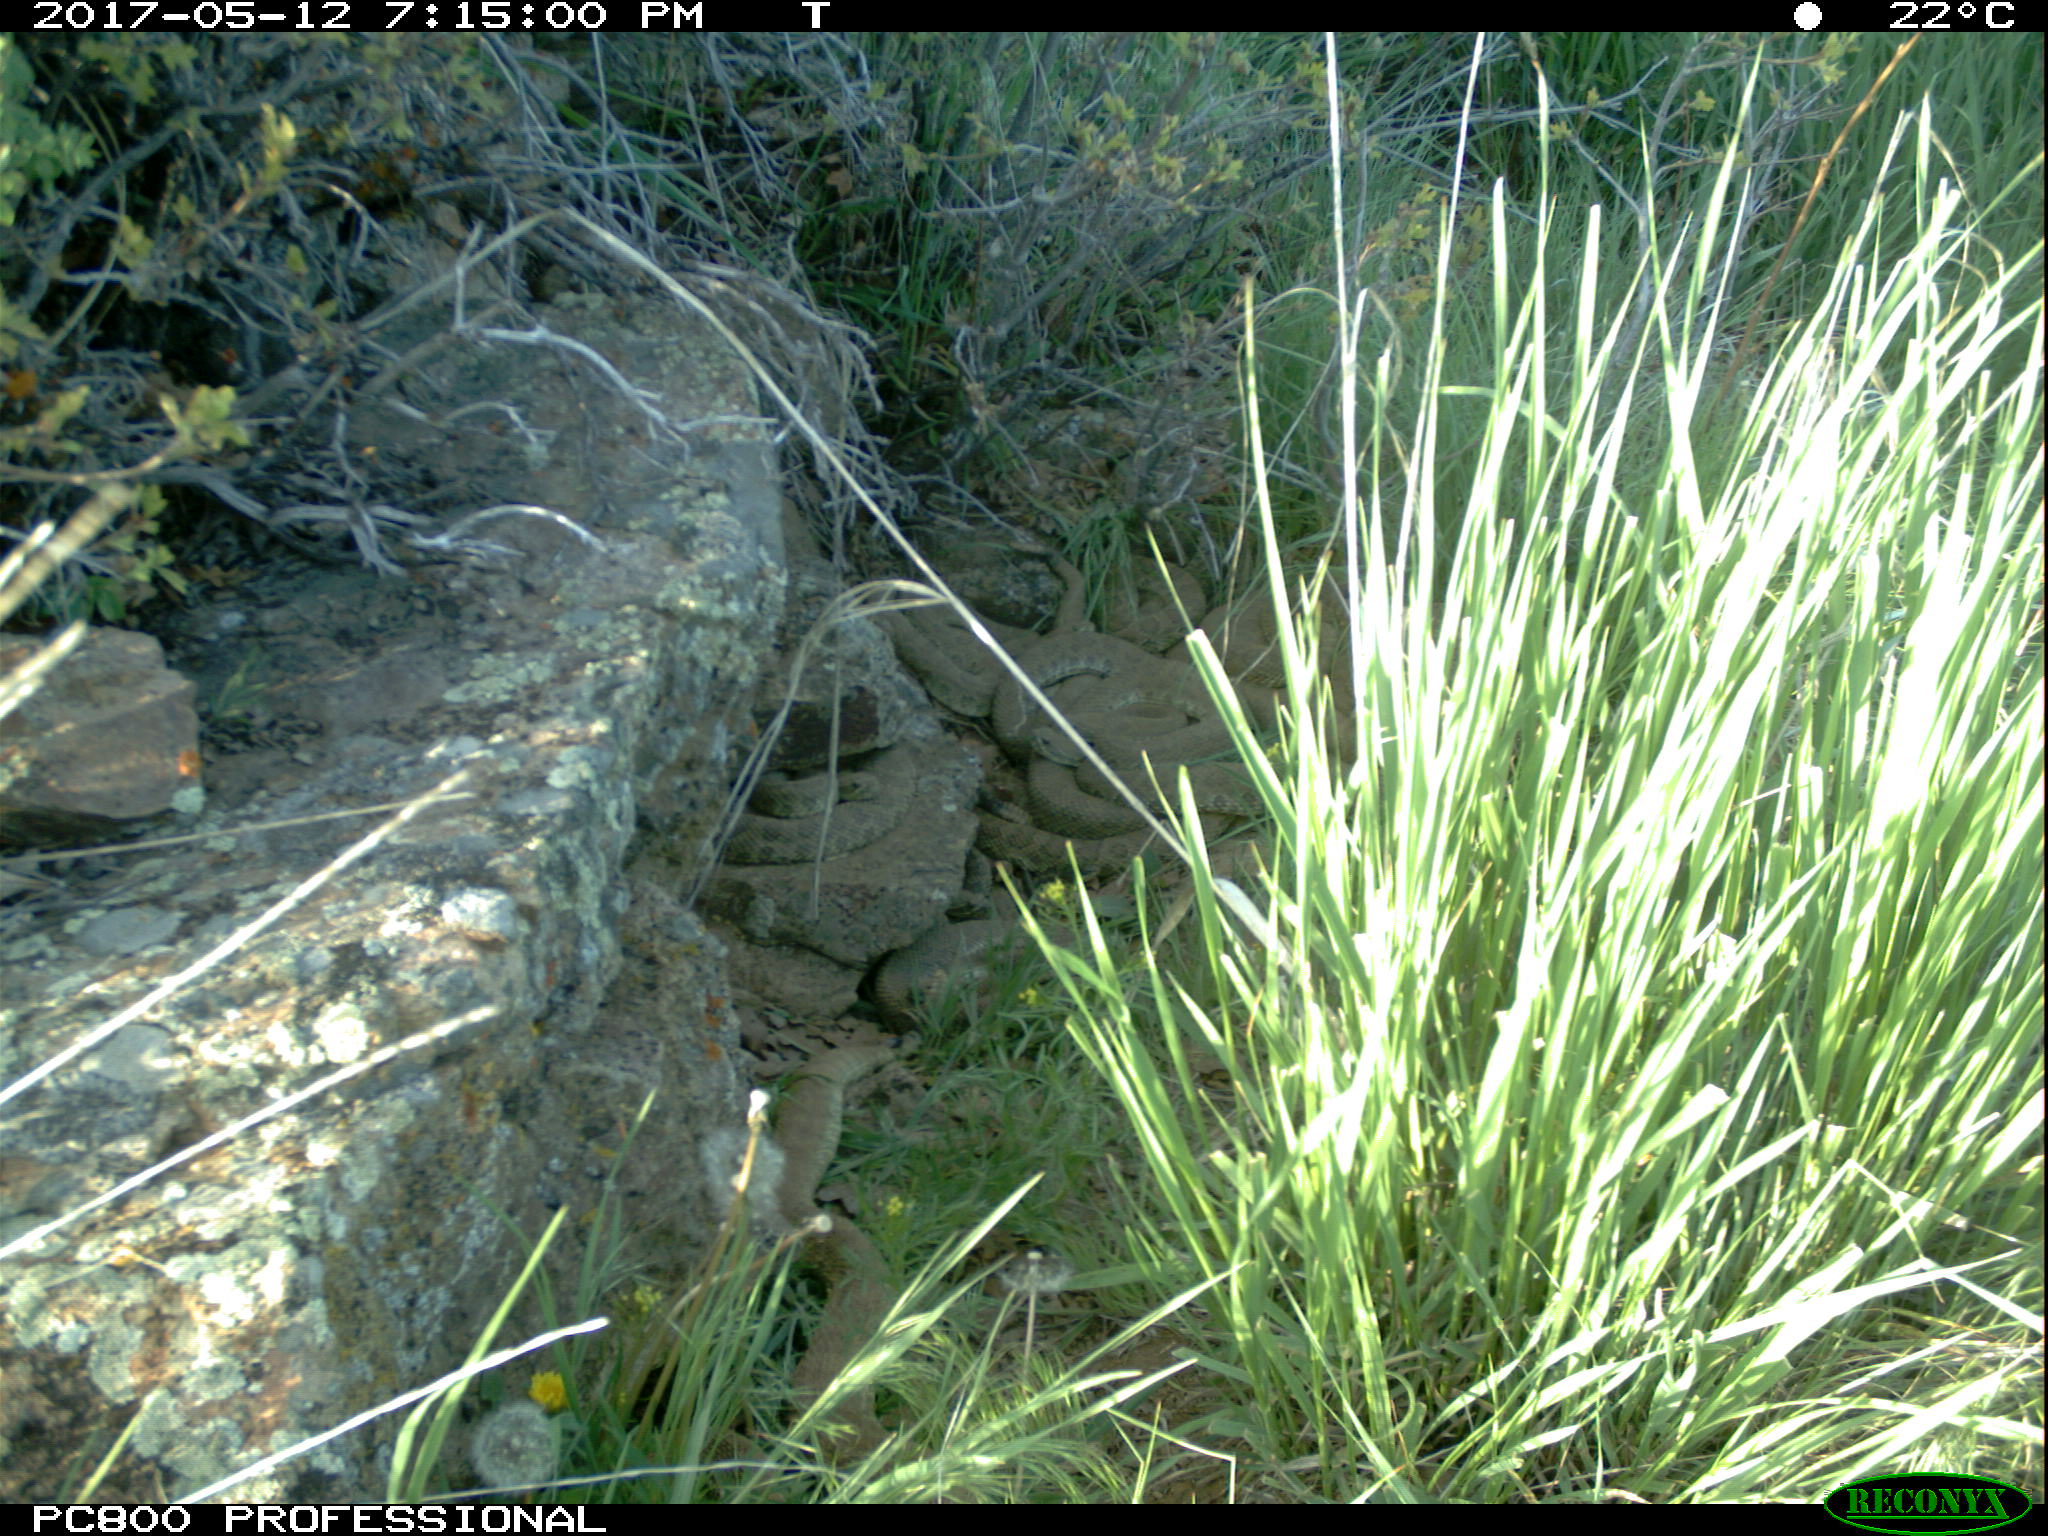snake: (761, 1041, 927, 1476), (1001, 650, 1229, 828), (898, 599, 1197, 731), (971, 781, 1230, 871), (742, 739, 913, 863), (1201, 581, 1358, 708), (1134, 744, 1274, 826), (1092, 552, 1211, 641)
